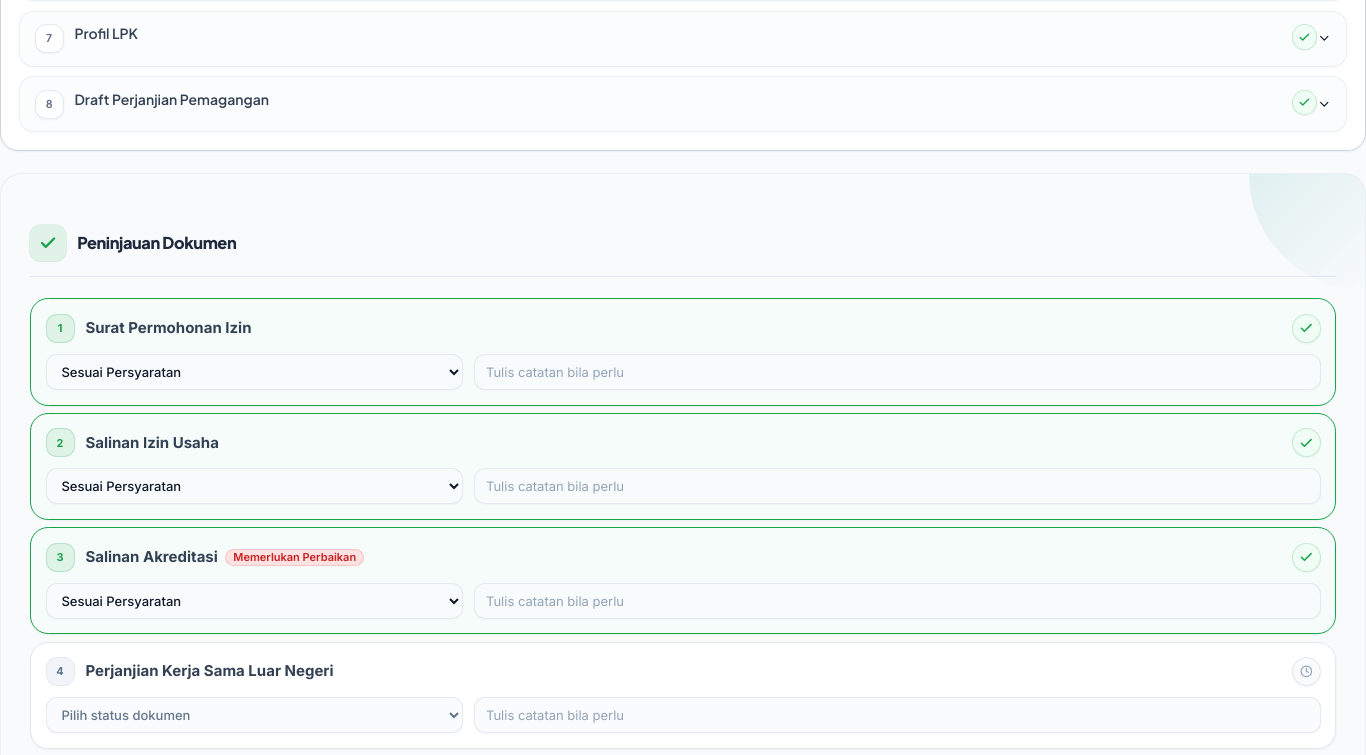
Scenario: session flow › shows persetujuan as the next stage label in peninjauan confirmation dialog
Earlier steps of the test are not shown.
(page scrolled)
Select "Sesuai Persyaratan" in the 4th dropdown at x=254, y=715, box [46, 697, 463, 733]
(page scrolled)
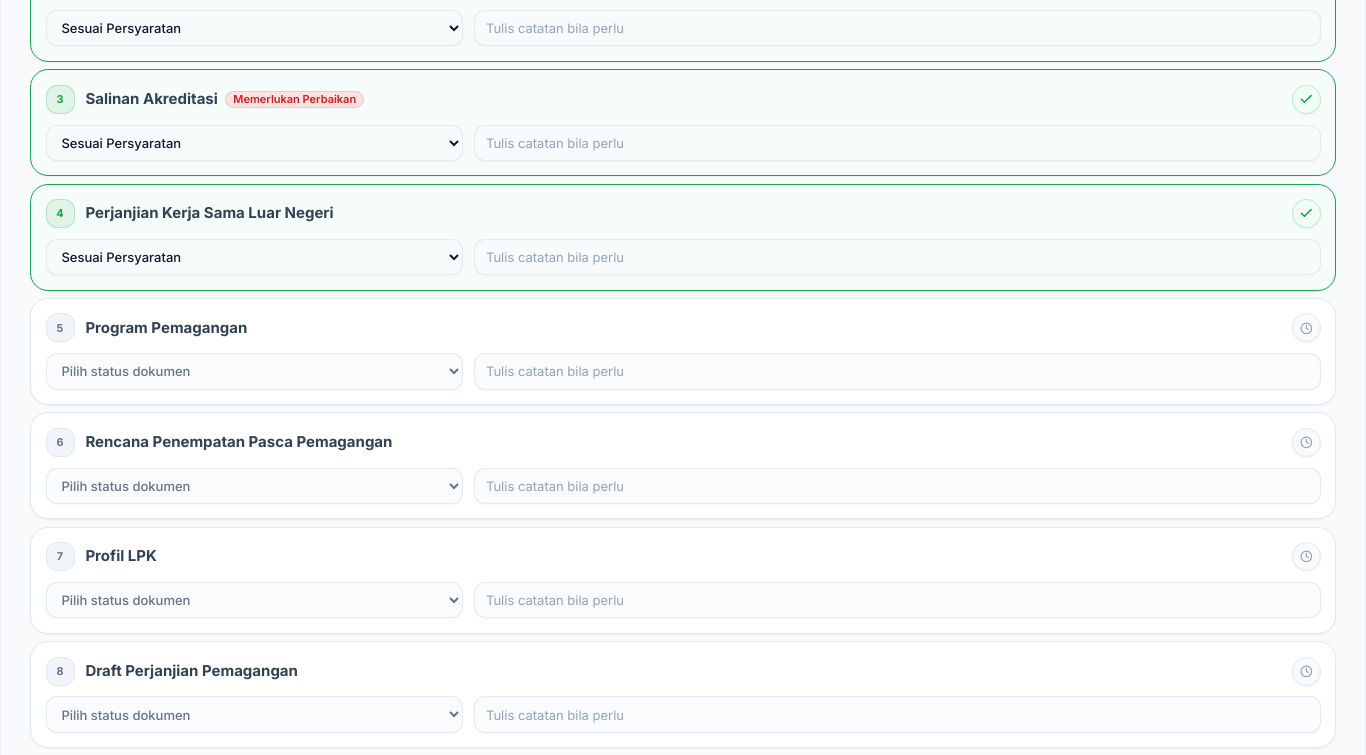
Select "Sesuai Persyaratan" in the 4th dropdown at x=254, y=371, box [46, 353, 463, 390]
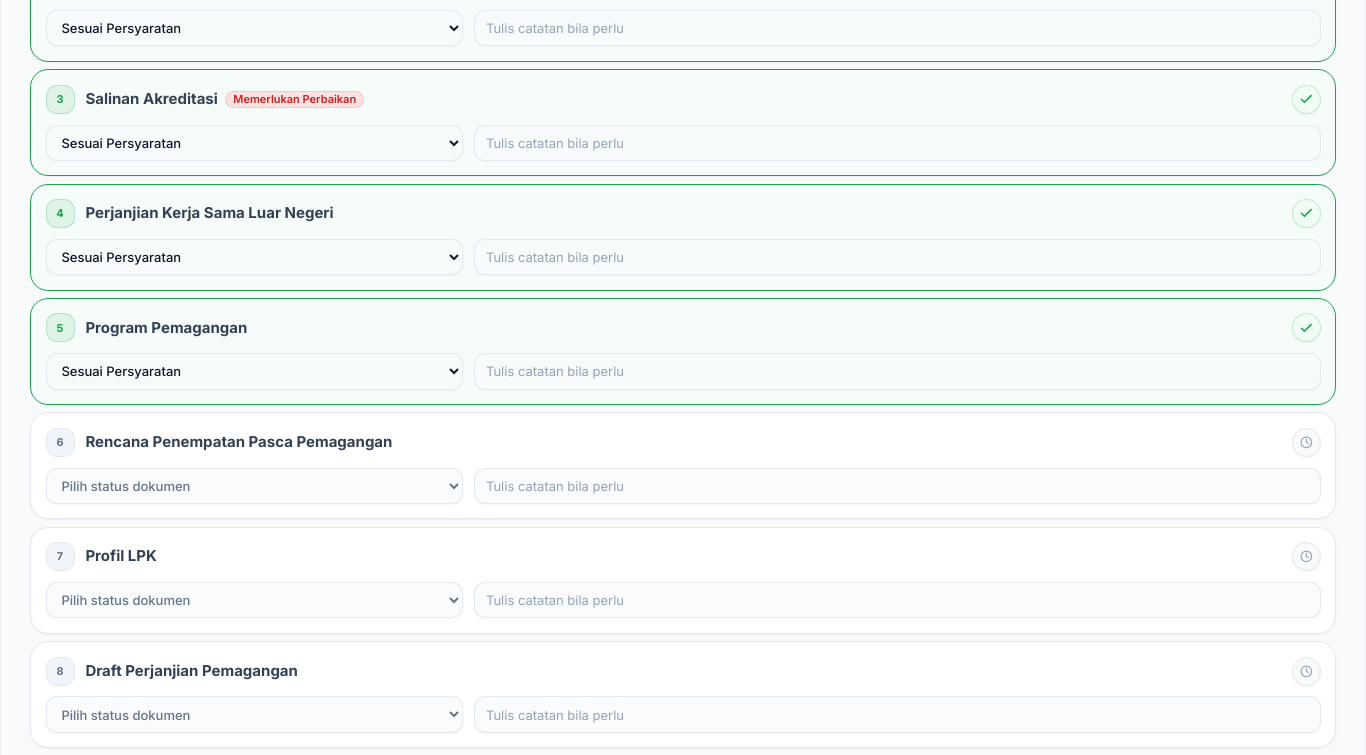
Select "Sesuai Persyaratan" in the 5th dropdown at x=254, y=486, box [46, 468, 463, 504]
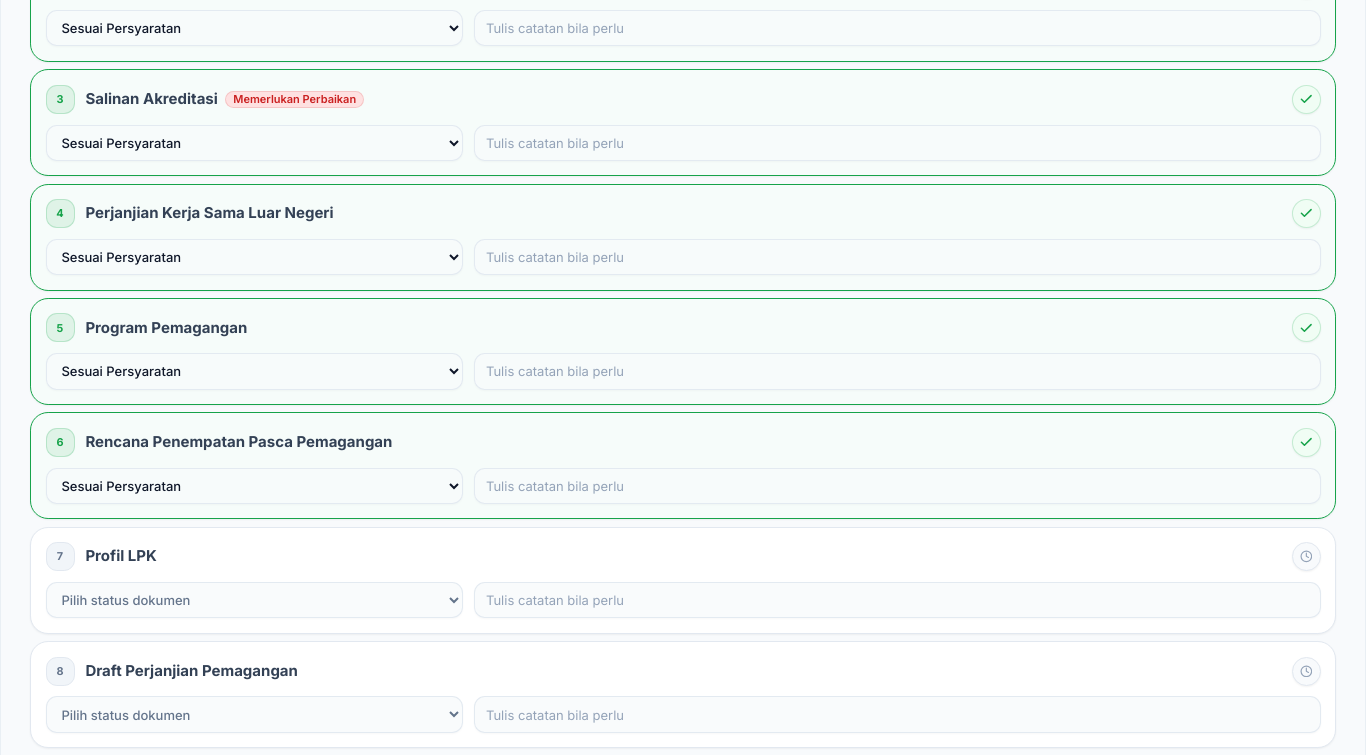
Select "Sesuai Persyaratan" in the 6th dropdown at x=254, y=600, box [46, 582, 463, 618]
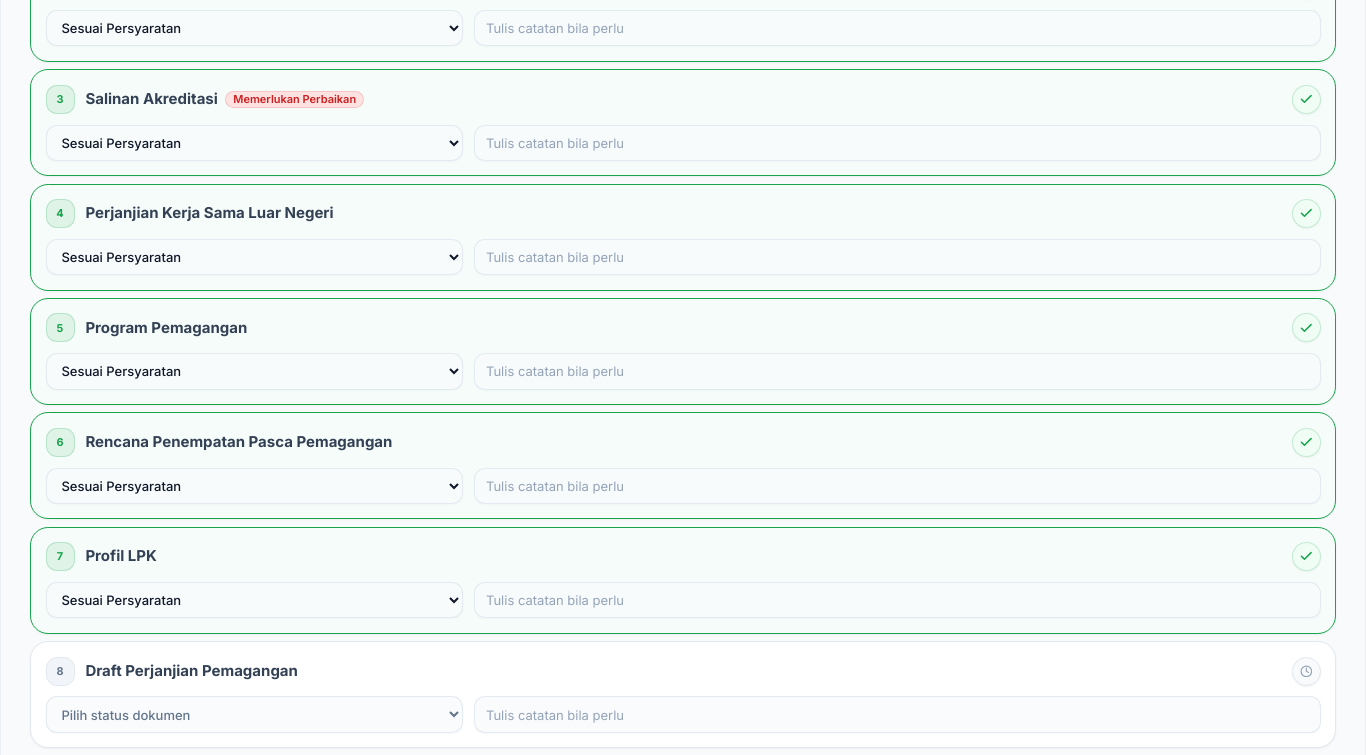
Select "Sesuai Persyaratan" in the 7th dropdown at x=254, y=715, box [46, 696, 463, 733]
(page scrolled)
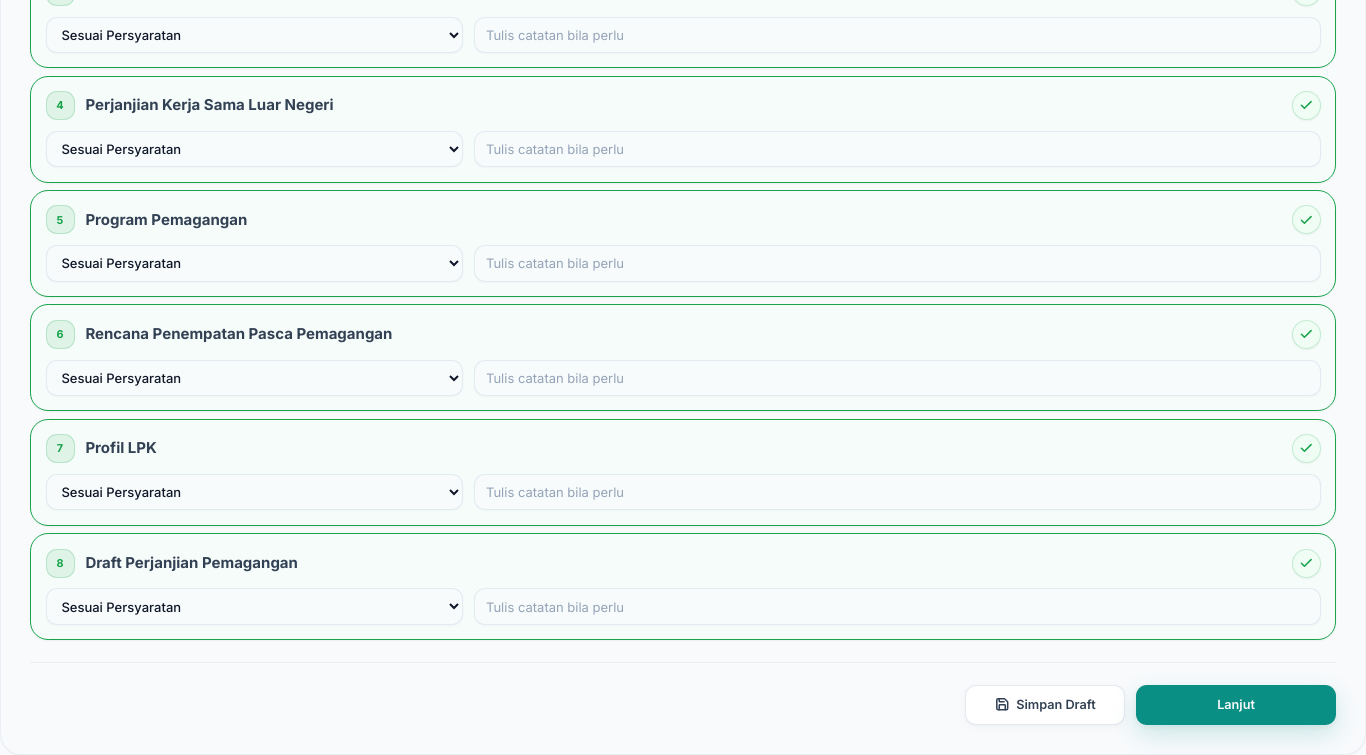
Check: the button "Lanjut" is enabled
Click the button "Lanjut" at x=1236, y=705, box [1136, 685, 1336, 725]
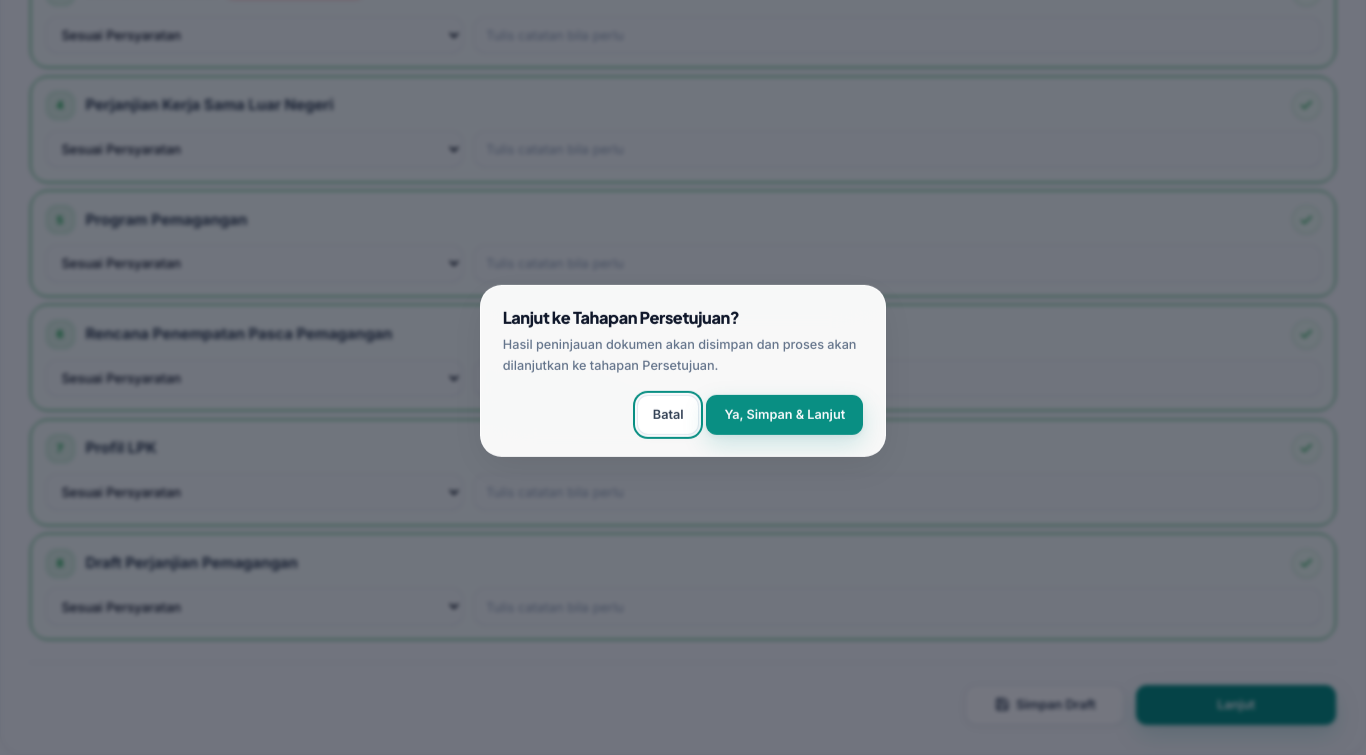
Check: the heading "Lanjut ke Tahapan Persetujuan?" is shown, box [503, 307, 740, 328]
